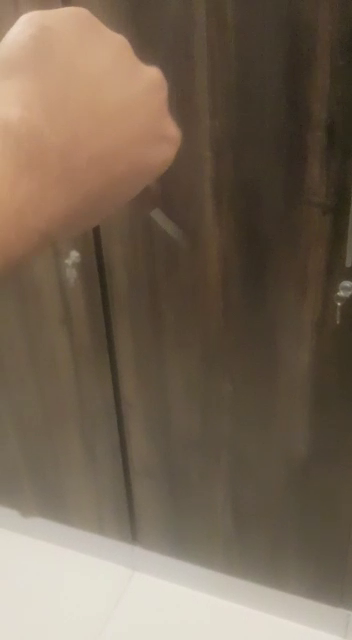knife: (116, 183, 209, 253)
